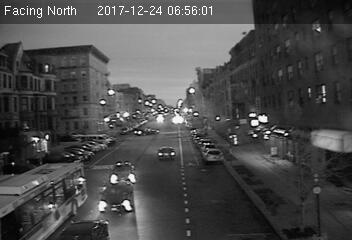car: (98, 184, 136, 215), (109, 161, 136, 184), (155, 146, 177, 162), (203, 149, 222, 161)
